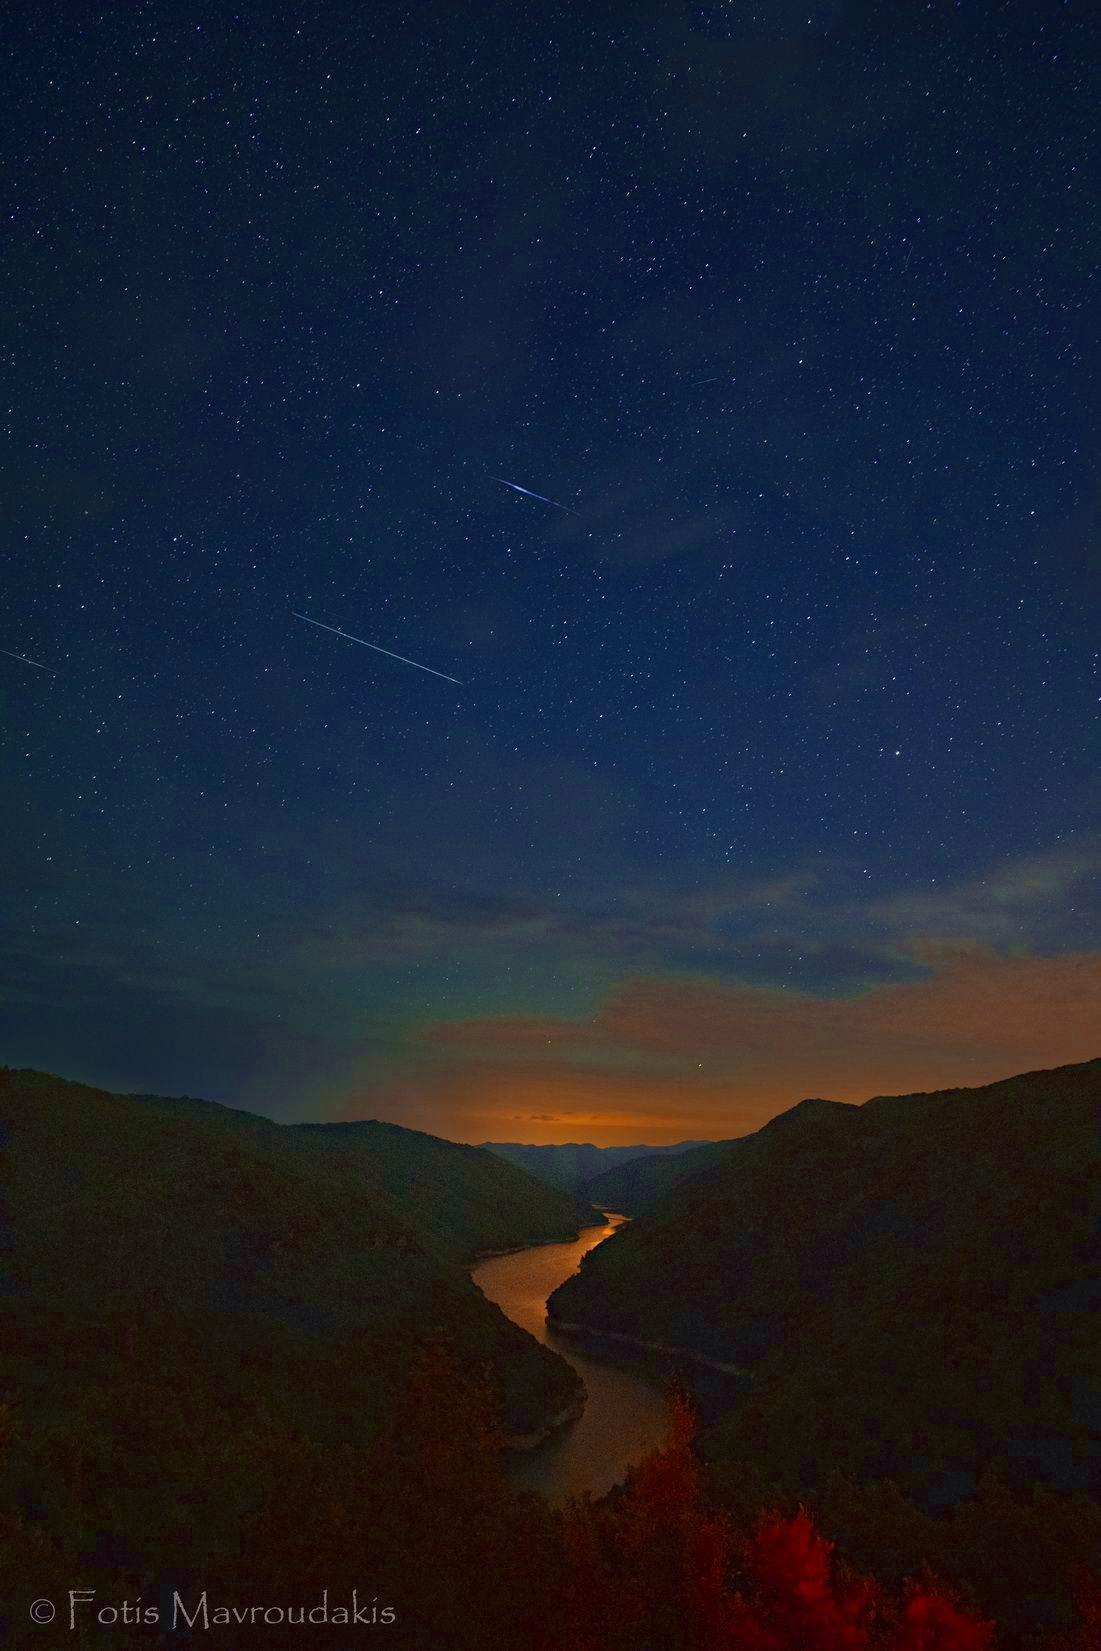meteorite: (292, 588, 485, 706), (421, 441, 608, 536), (0, 654, 79, 706)
